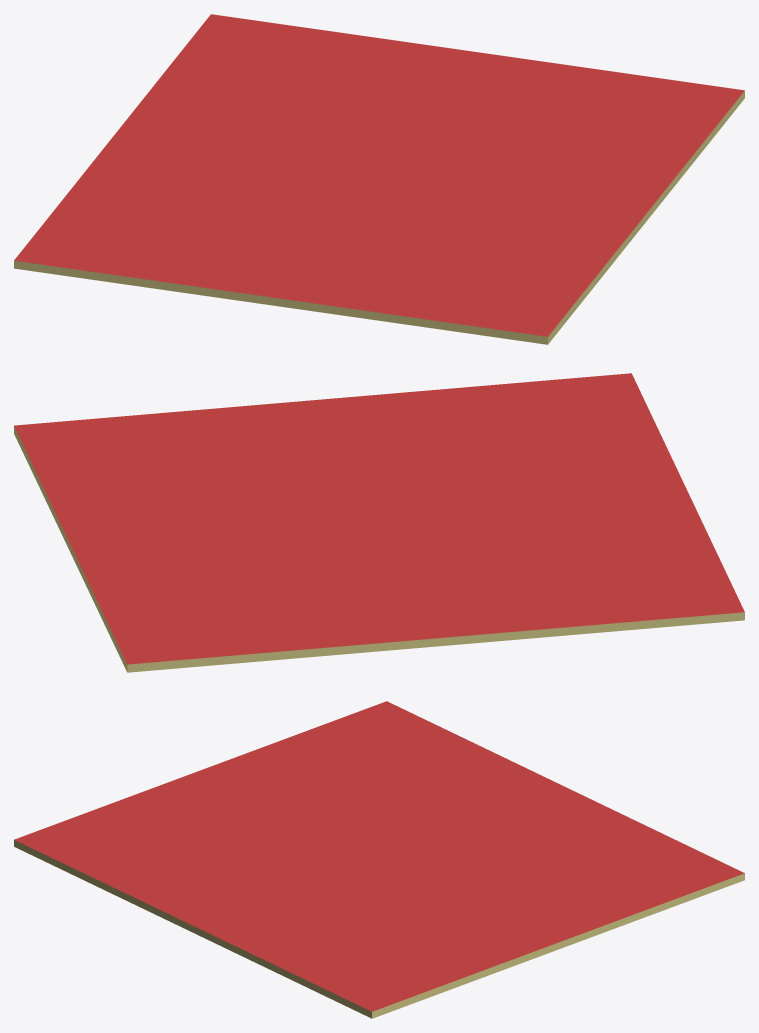
3 views of the same model, one above another, from view 1: azimuth 30°, elevation 25°; view 2: azimuth 150°, elevation 25°; view 3: azimuth 270°, elevation 25° (orthographic). The views are drawn at different scales.
Bounding box in the file's own units: 9.49 × 9.44 × 0.1.
